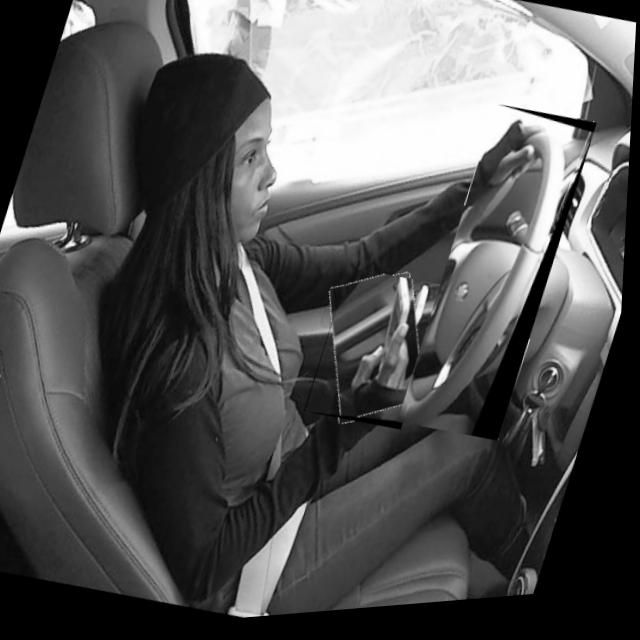phone: (307, 267, 450, 443)
wheel: (400, 106, 599, 456)
